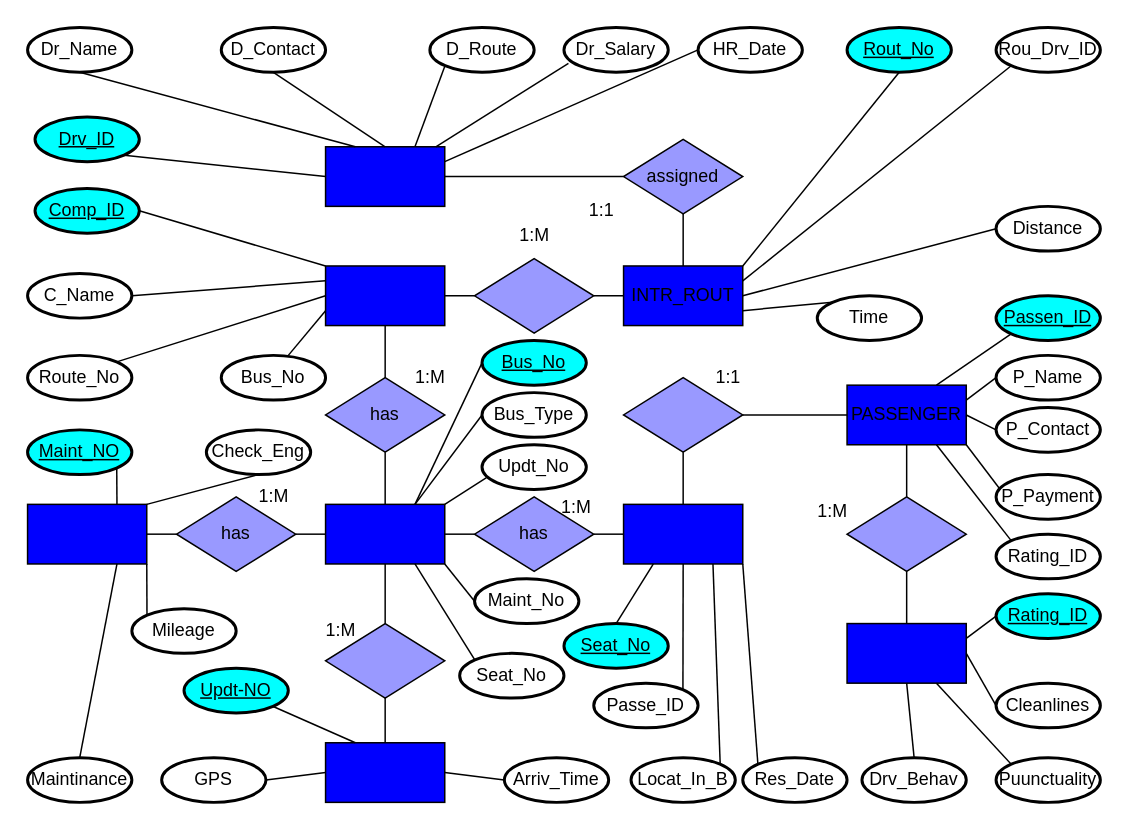
This 1126x828 diagram has some shape labels left out. Here are the shapes that lost their labels. From the top down, the box of each, then its label:
(324, 145, 445, 206): DRIVER
(324, 264, 445, 326): BUS_COMP
(473, 257, 594, 333): run
(622, 376, 743, 452): book
(26, 503, 147, 564): MAINT_LOG
(324, 503, 445, 564): BUSSES
(622, 503, 743, 564): SEATS
(846, 495, 966, 571): give
(324, 622, 445, 698): makes
(846, 622, 966, 683): RATING
(324, 741, 445, 802): R_T_UPDT
